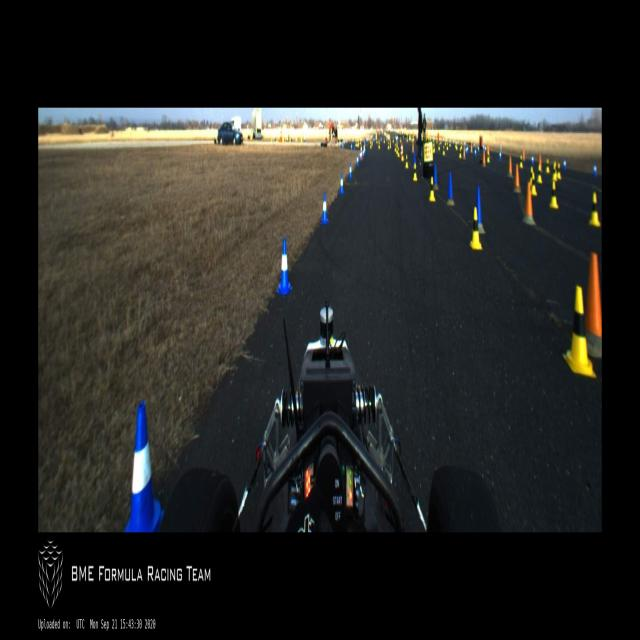blue_cone: (124, 402, 164, 532), (276, 237, 293, 296), (476, 186, 486, 235), (447, 170, 455, 206), (321, 192, 328, 225), (434, 162, 438, 190), (339, 173, 344, 195), (593, 161, 597, 177), (349, 162, 352, 180), (563, 157, 567, 170), (413, 151, 416, 168), (531, 154, 534, 166), (531, 154, 534, 165), (499, 150, 502, 160), (474, 148, 477, 157), (356, 155, 358, 167), (478, 145, 480, 153), (360, 150, 361, 162), (466, 147, 467, 155)
large_orange_cone: (360, 145, 363, 160), (401, 142, 403, 158)
orange_cone: (584, 252, 602, 358), (523, 181, 536, 225), (513, 163, 522, 193), (507, 154, 513, 178), (539, 154, 543, 172), (482, 151, 486, 167), (522, 148, 526, 162), (463, 146, 466, 160), (412, 142, 414, 152), (470, 142, 472, 152)
yellow_cone: (563, 286, 596, 378), (469, 206, 482, 250), (589, 191, 601, 227), (550, 179, 558, 209), (429, 177, 436, 201), (531, 172, 537, 196), (537, 164, 543, 183), (552, 164, 558, 181), (413, 164, 418, 181), (545, 160, 550, 172), (405, 154, 409, 169), (558, 164, 562, 179), (519, 154, 523, 168), (530, 166, 533, 182), (486, 151, 490, 163), (458, 148, 462, 158), (401, 151, 404, 162), (397, 147, 400, 158), (442, 146, 444, 156), (396, 146, 398, 154), (388, 142, 390, 149), (395, 143, 396, 152)
